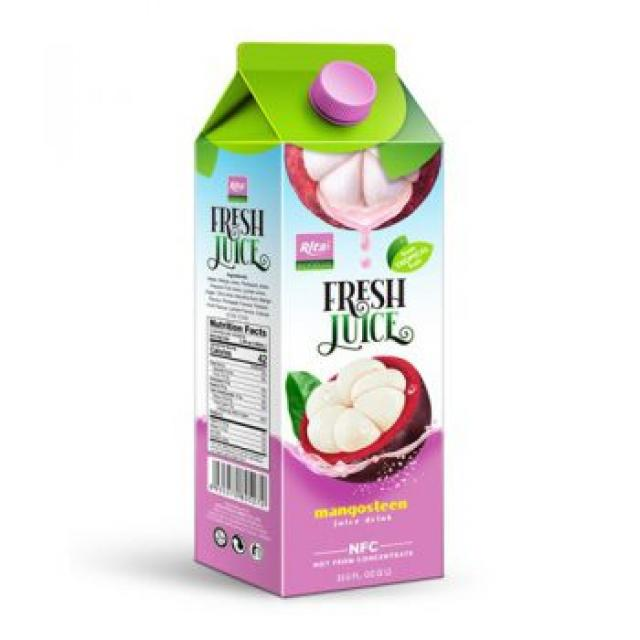non_white_jug: (157, 10, 468, 593)
